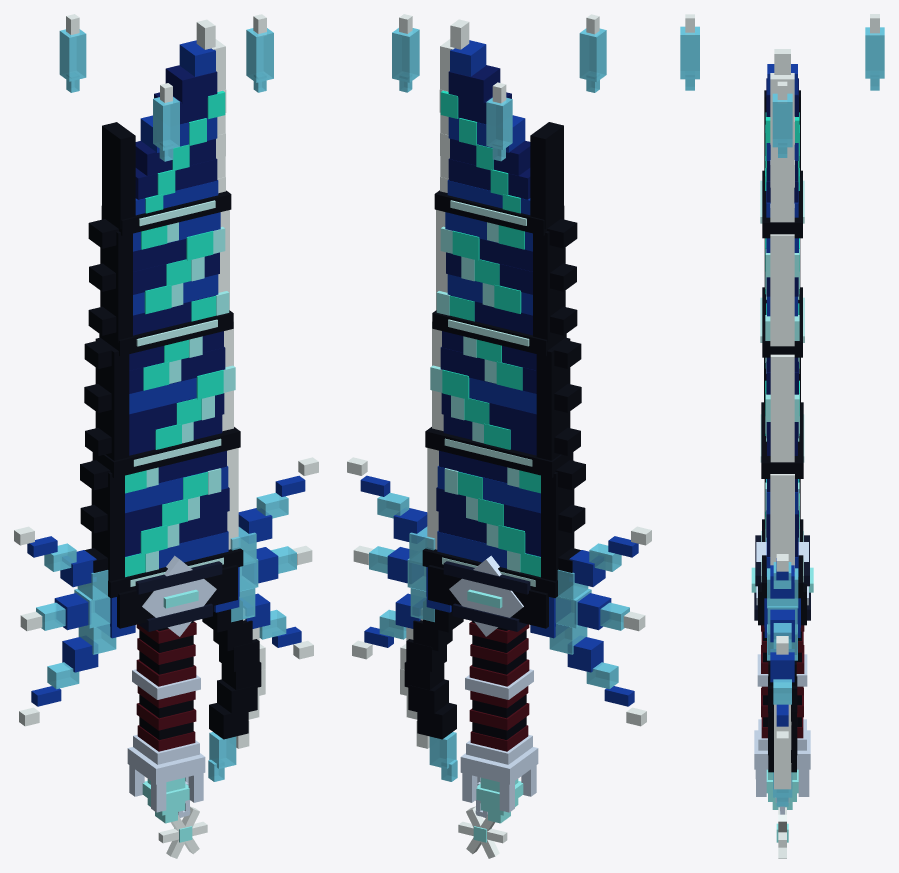
File: frostrend.obj
The picture shows the model from 3 angles, left to right: view 1: azimuth 30°, elevation 25°; view 2: azimuth 150°, elevation 25°; view 3: azimuth 270°, elevation 25°; orthographic projection.
Visible parts, largest first — view 1: blade_3_185, blade_1_135, blade_2_158, blade_0_112, grip_1, blade_1_139, guard_53, frost_core_56, blade_2_162, pommel_27, blade_0_102, blade_3_168 (+75 smaller); view 2: blade_3_185, blade_1_135, blade_0_112, blade_2_158, grip_1, blade_1_139, guard_53, frost_core_56, blade_2_162, pommel_27, blade_0_102, blade_3_168 (+75 smaller); view 3: blade_2_157, blade_1_134, blade_0_111, blade_1_139, crown_shard_0_245, blade_3_186, crown_shard_1_248, crown_shard_2_251, blade_2_162, pommel_27, ice_fin_2_75, blade_0_116 (+13 smaller).
Part boxes in pixels (x1=…): blade_3_185: x1=102, y1=122, x2=135, y2=229; blade_1_135: x1=95, y1=337, x2=129, y2=460; blade_2_158: x1=100, y1=231, x2=132, y2=342; blade_0_112: x1=91, y1=460, x2=124, y2=581; grip_1: x1=139, y1=621, x2=193, y2=740; blade_1_139: x1=92, y1=427, x2=240, y2=478; guard_53: x1=117, y1=565, x2=237, y2=628; frost_core_56: x1=142, y1=555, x2=216, y2=636; blade_2_162: x1=99, y1=310, x2=233, y2=356; pommel_27: x1=127, y1=747, x2=205, y2=784; blade_0_102: x1=125, y1=487, x2=229, y2=536; blade_3_168: x1=135, y1=158, x2=217, y2=199; blade_3_185: x1=530, y1=122, x2=563, y2=229; blade_1_135: x1=536, y1=337, x2=570, y2=460; blade_0_112: x1=541, y1=460, x2=574, y2=581; blade_2_158: x1=533, y1=231, x2=565, y2=342; grip_1: x1=472, y1=621, x2=526, y2=739; blade_1_139: x1=425, y1=427, x2=573, y2=477; guard_53: x1=428, y1=565, x2=548, y2=628; frost_core_56: x1=449, y1=555, x2=523, y2=636; blade_2_162: x1=432, y1=310, x2=566, y2=356; pommel_27: x1=460, y1=747, x2=538, y2=784; blade_0_102: x1=436, y1=487, x2=540, y2=536; blade_3_168: x1=448, y1=158, x2=530, y2=199; blade_2_157: x1=770, y1=234, x2=794, y2=346; blade_1_134: x1=770, y1=354, x2=794, y2=462; blade_0_111: x1=770, y1=474, x2=794, y2=571; blade_1_139: x1=761, y1=402, x2=803, y2=478; crown_shard_0_245: x1=772, y1=93, x2=792, y2=147; blade_3_186: x1=762, y1=170, x2=802, y2=238; crown_shard_1_248: x1=680, y1=26, x2=699, y2=79; crown_shard_2_251: x1=865, y1=27, x2=884, y2=78; blade_2_162: x1=762, y1=287, x2=802, y2=357; pommel_27: x1=754, y1=730, x2=810, y2=769; ice_fin_2_75: x1=770, y1=649, x2=794, y2=682; blade_0_116: x1=762, y1=519, x2=803, y2=598.
Size of the model in its own units: 1.8 by 4.74 by 1.08.
